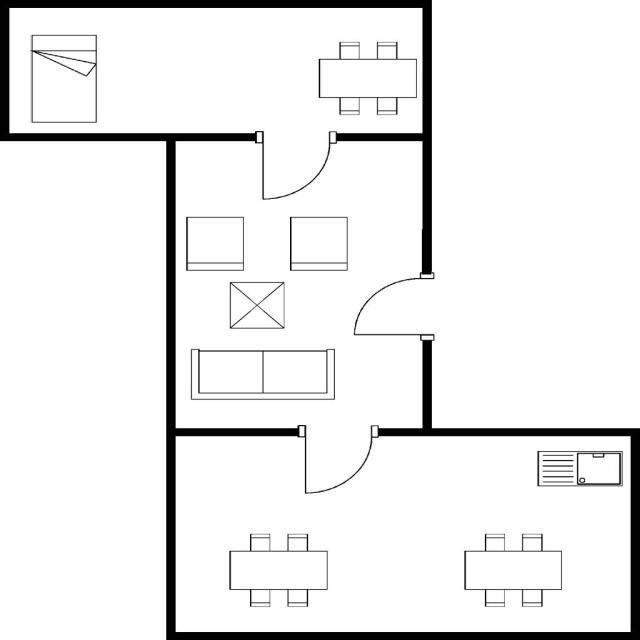bed: (26, 31, 102, 126)
coffee_table: (221, 278, 291, 332)
dining_table: (312, 37, 420, 120), (460, 528, 568, 610), (224, 530, 332, 609)
large_sofa: (186, 345, 340, 404)
sink: (531, 446, 626, 490)
small_sofa: (282, 213, 352, 275), (182, 213, 248, 273)
